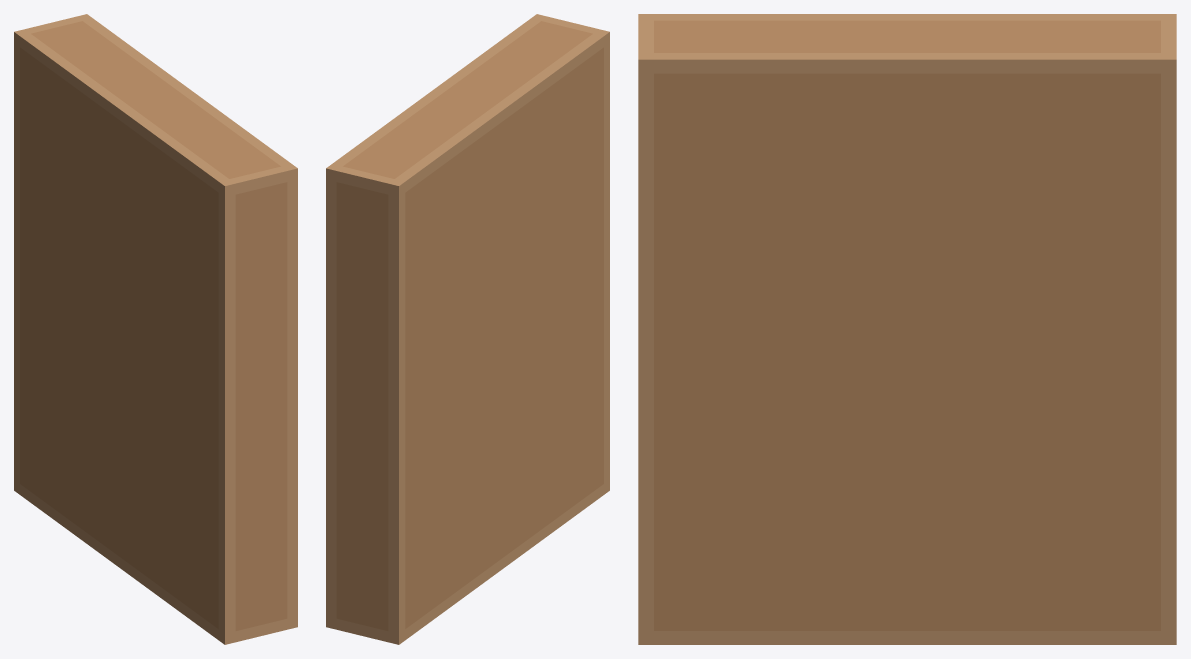
File: Wall_E_1_1.obj
The picture shows the model from 3 angles, left to right: view 1: azimuth 30°, elevation 25°; view 2: azimuth 150°, elevation 25°; view 3: azimuth 270°, elevation 25°; orthographic projection. The views are drawn at different scales.
Visible parts, largest first — view 1: Wall_E_1_1; view 2: Wall_E_1_1; view 3: Wall_E_1_1.
Part boxes in pixels (<box>): Wall_E_1_1: <box>14,14,297,644</box>; Wall_E_1_1: <box>326,14,609,644</box>; Wall_E_1_1: <box>638,14,1176,644</box>.
Bounding box in the file's own units: 0.4 × 2.4 × 2.
